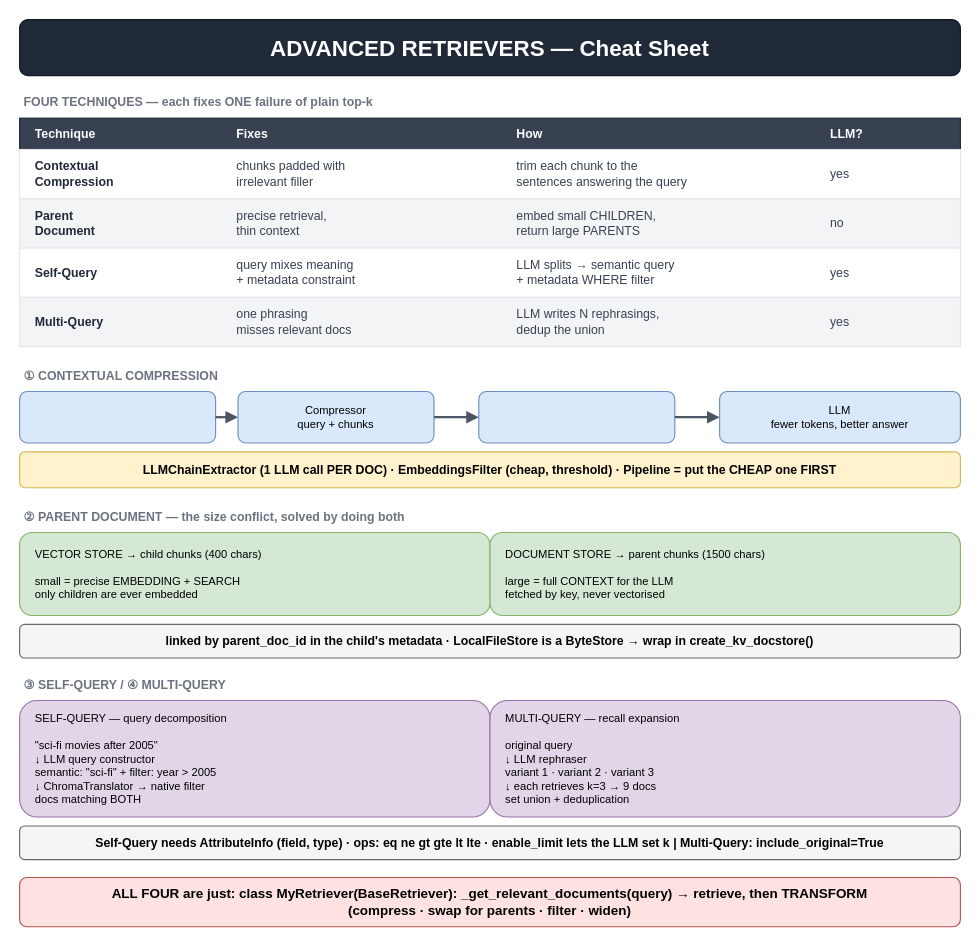
The diagram is 980 pixels wide and 946 high, and some of its shapes have lost their labels. The shapes that lost their labels are listed below. From the top down, each one's centre as x and y in pixels, then its label:
At (117,416): "Base retriever top-k raw chunks".
At (576,416): "Compressed only relevant text".
